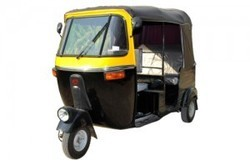auto: (52, 3, 202, 160)
